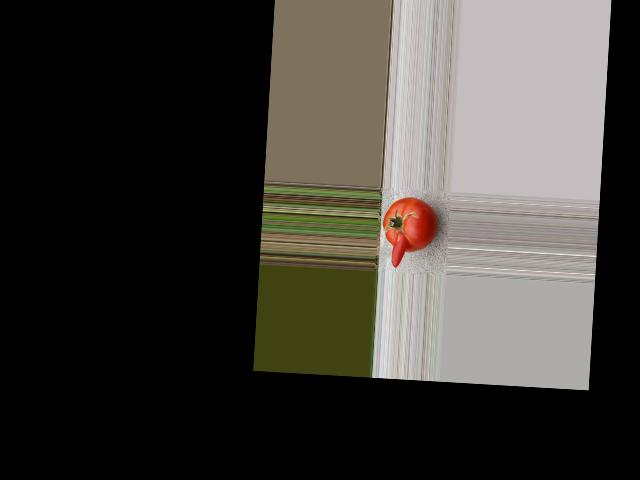tomato: (381, 195, 438, 253)
